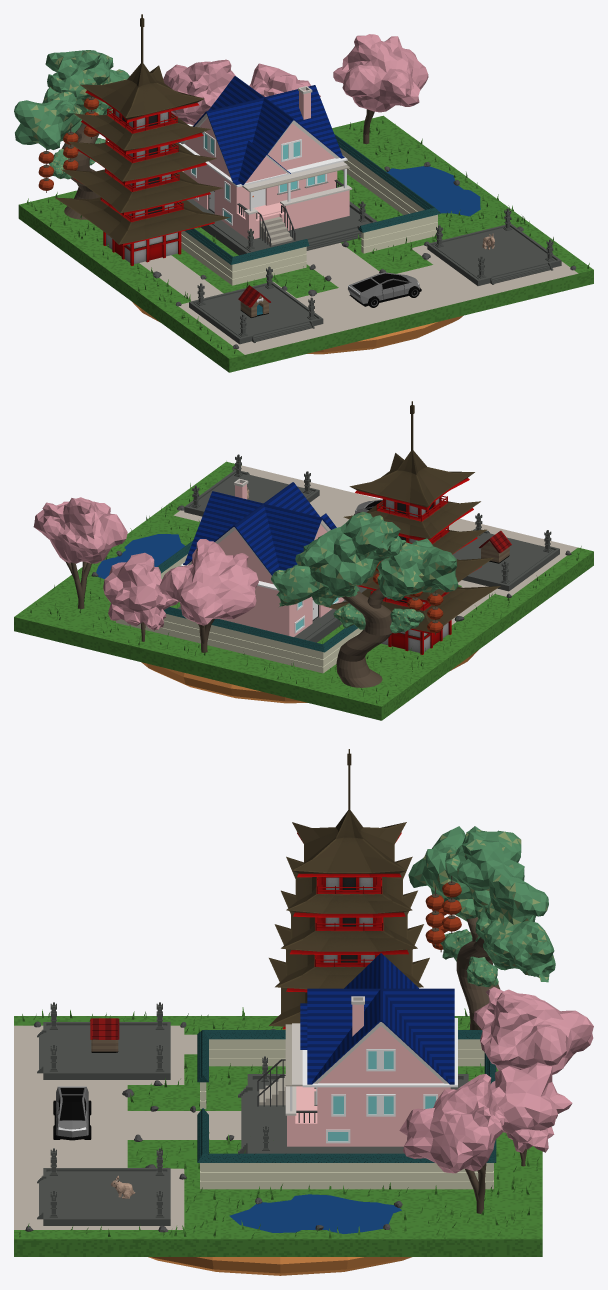
The picture shows the model from 3 angles, top to bottom: view 1: azimuth 30°, elevation 25°; view 2: azimuth 150°, elevation 25°; view 3: azimuth 270°, elevation 25°; orthographic projection. The views are drawn at different scales.
Visible parts, largest first — view 1: Cube.005, Cube.313, VEHICLES_CYBERTRUCK, UNDERGROUND_PIZZA, OBJRANDOM_DOGHOUSE; view 2: Cube.005, Cube.313, UNDERGROUND_PIZZA, OBJRANDOM_DOGHOUSE; view 3: Cube.005, Cube.313, UNDERGROUND_PIZZA, VEHICLES_CYBERTRUCK, OBJRANDOM_DOGHOUSE.
Boxes of the visible parts, left/top/right/bottom form: Cube.005: left=14, top=14, right=593, bottom=372; Cube.313: left=177, top=76, right=352, bottom=246; VEHICLES_CYBERTRUCK: left=348, top=272, right=421, bottom=307; UNDERGROUND_PIZZA: left=132, top=302, right=463, bottom=354; OBJRANDOM_DOGHOUSE: left=238, top=285, right=270, bottom=317; Cube.005: left=14, top=401, right=593, bottom=720; Cube.313: left=180, top=478, right=344, bottom=636; UNDERGROUND_PIZZA: left=141, top=650, right=478, bottom=703; OBJRANDOM_DOGHOUSE: left=479, top=530, right=511, bottom=563; Cube.005: left=14, top=749, right=593, bottom=1256; Cube.313: left=257, top=953, right=457, bottom=1146; UNDERGROUND_PIZZA: left=148, top=1257, right=411, bottom=1275; VEHICLES_CYBERTRUCK: left=53, top=1086, right=91, bottom=1140; OBJRANDOM_DOGHOUSE: left=90, top=1018, right=119, bottom=1052.
Bounding box in the file's own units: 4528 × 2902 × 4389.
48 materials, 5 textured.
